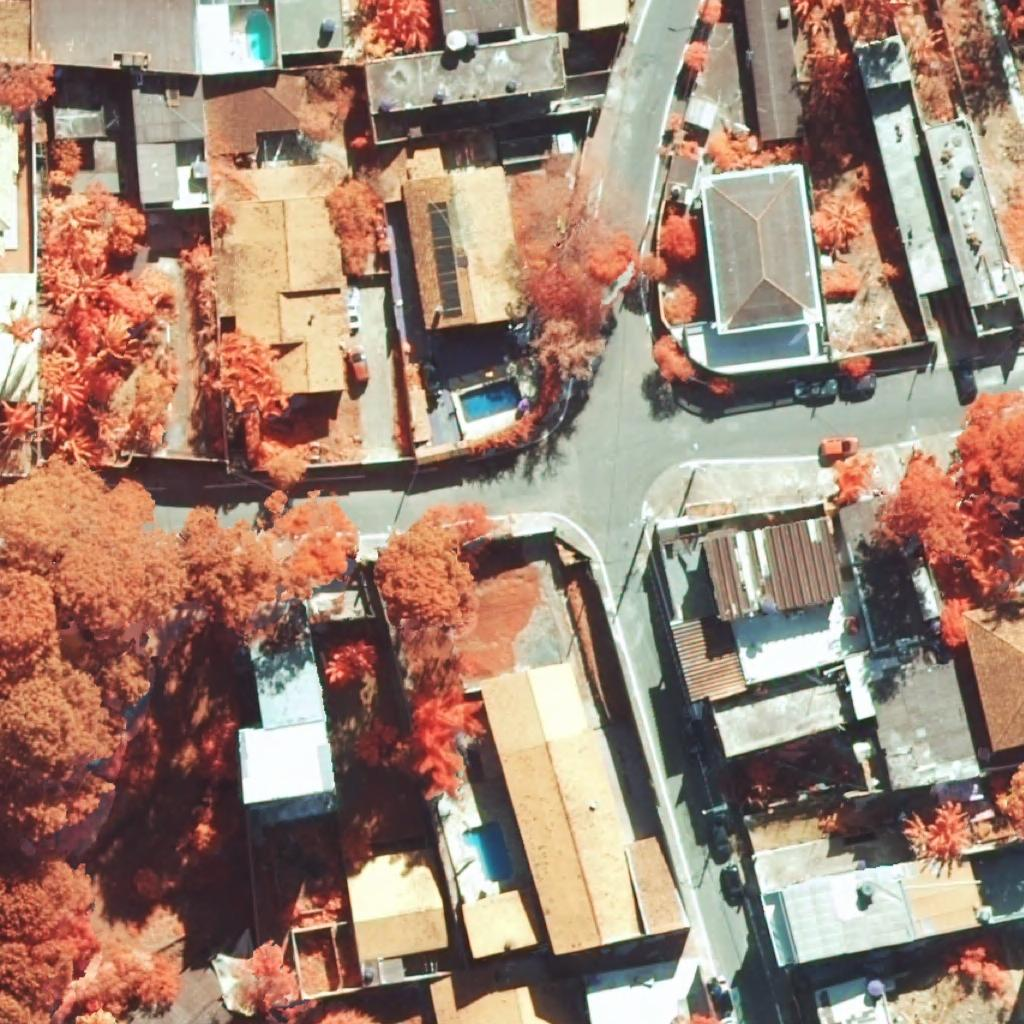pool: (463, 822, 515, 882), (459, 377, 522, 424), (246, 11, 271, 62)
